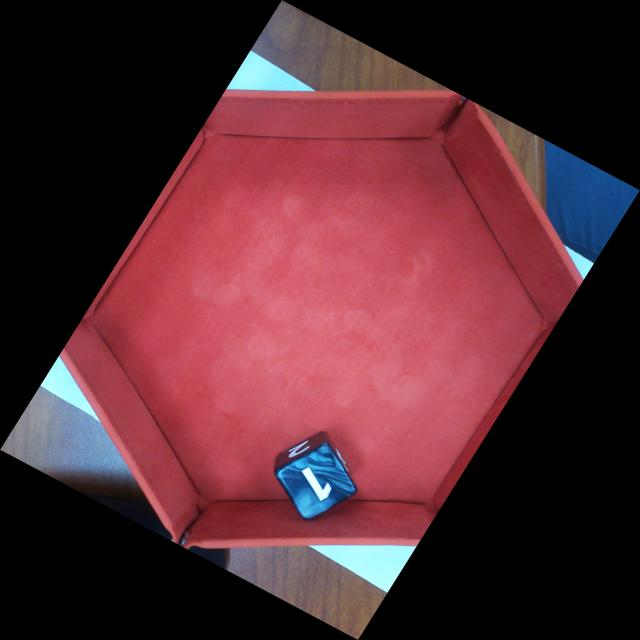dice: (279, 439, 356, 520)
